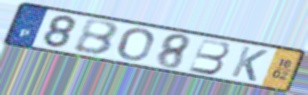8: (153, 33, 193, 70), (41, 14, 78, 49)
B: (71, 18, 120, 57), (186, 37, 231, 76)
K: (228, 44, 271, 83)
O: (116, 27, 155, 62)
